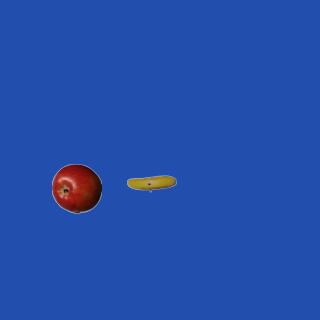Apple Braeburn: (51, 163, 101, 213)
Banana: (126, 158, 176, 208)
